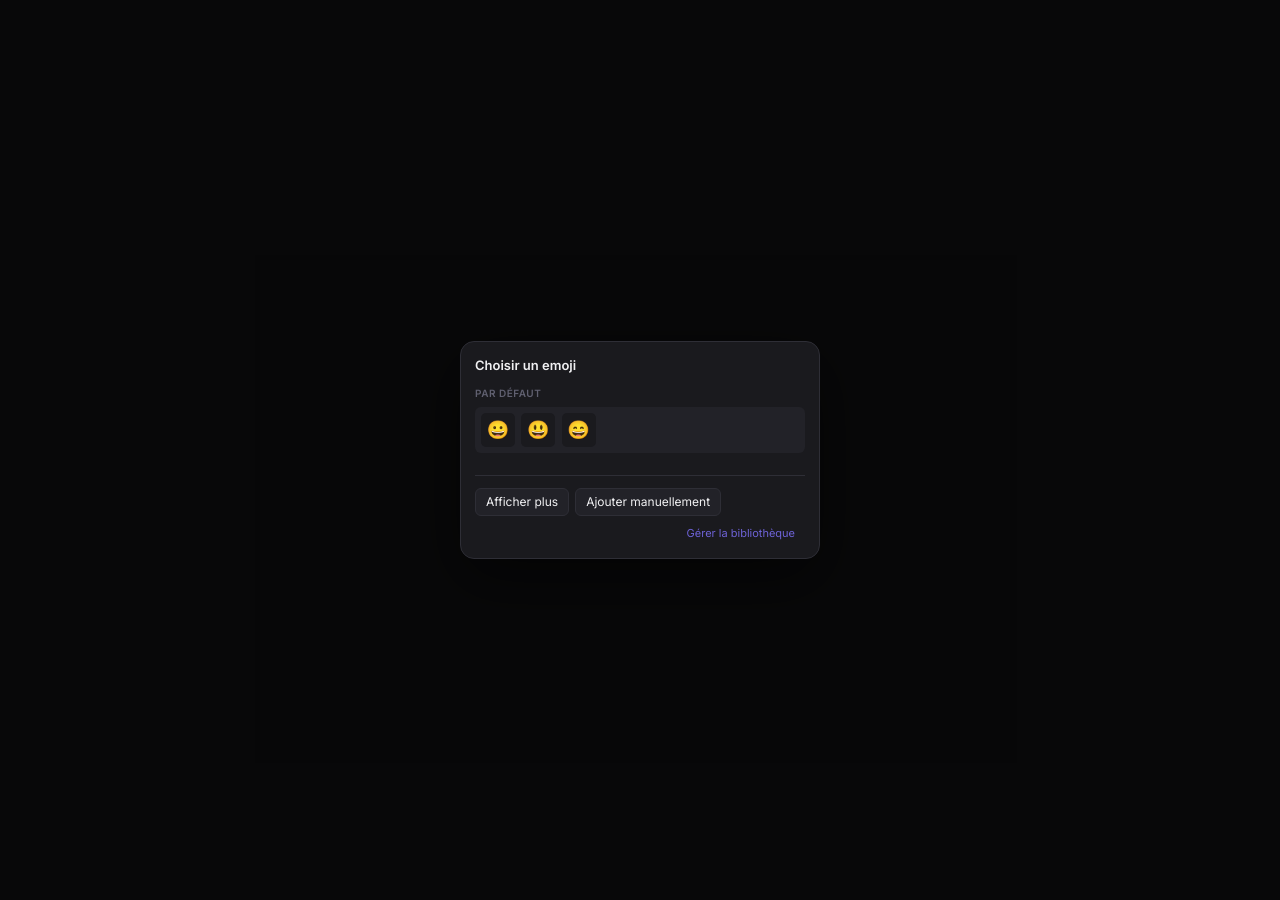
Test: EmojiPicker › devrait montrer tous les emojis après "Afficher plus"
This screenshot has width=1280, height=900.
Click the button "Afficher plus" at (522,502), box [475,488,569,516]
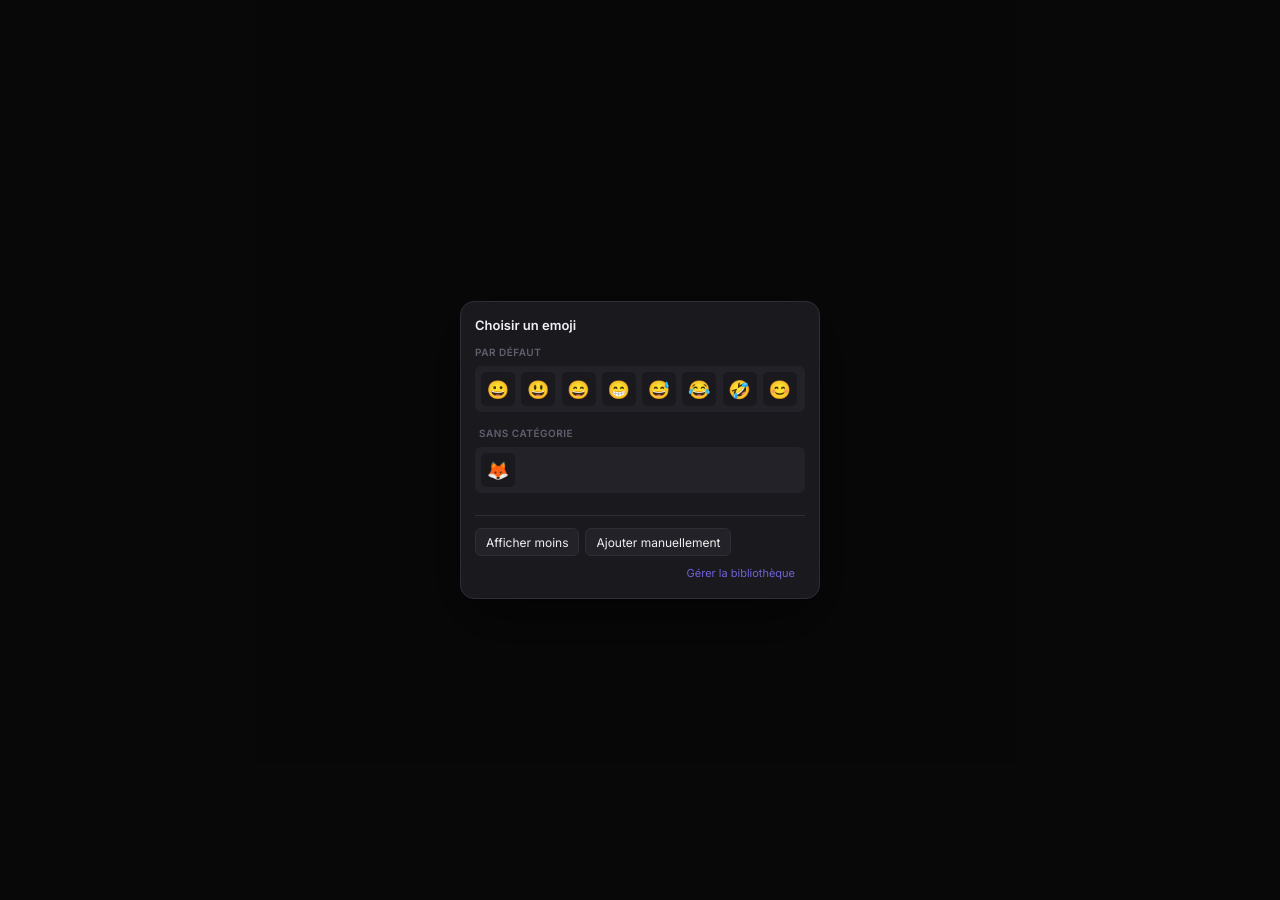
expect the button "😁" is shown: met, box [602,372,636,406]
expect the button "🤣" is shown: met, box [722,372,756,406]
expect the button "😊" is shown: met, box [763,372,797,406]
